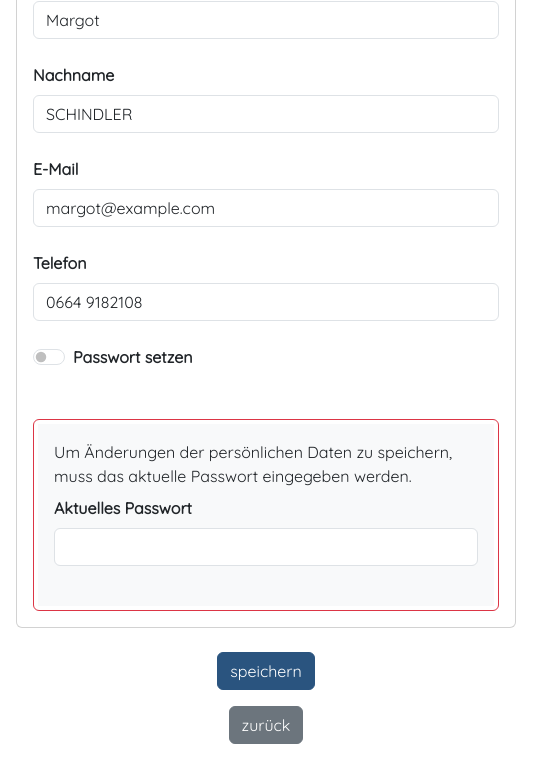
Test: ProfileFormView › shows field-level validation errors under the matching input
The width and height of the screenshot is (533, 761).
(page scrolled)
Step 1. Click the button "speichern" → [266, 670], box [217,652,315,690]
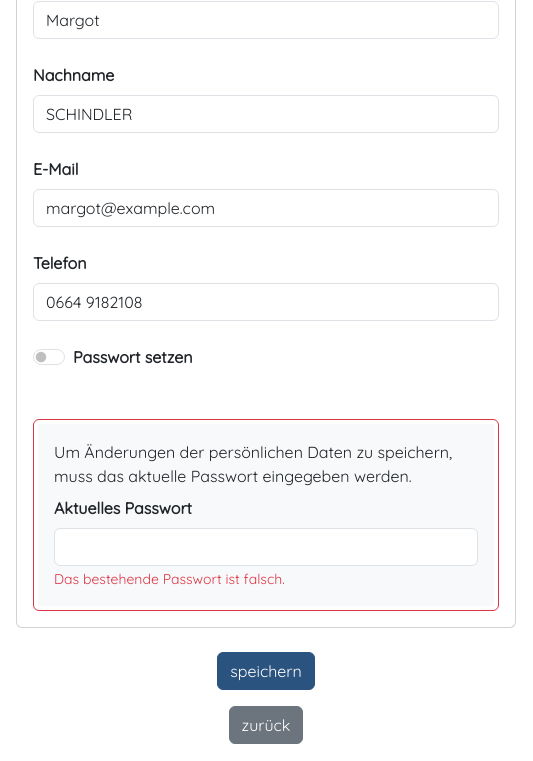
expect the text "Das bestehende Passwort ist falsch." is shown: met, box [54,570,288,588]
